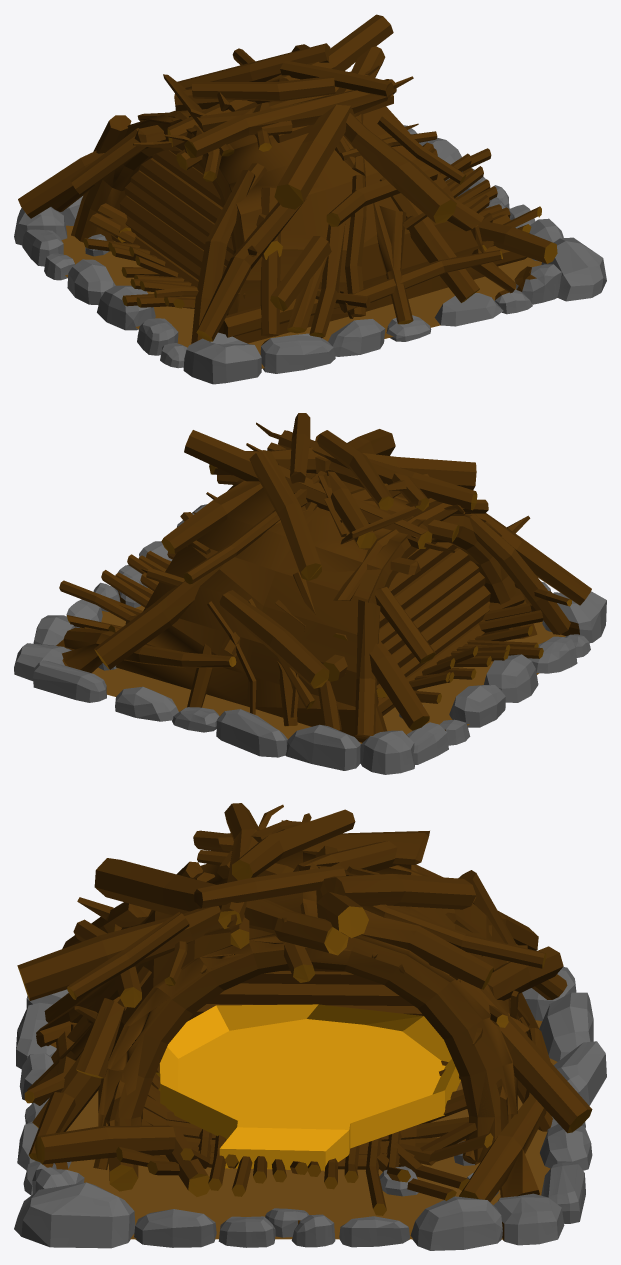
File: beaver habitat 1.fbx
3 renders of one model, top to bottom at view 1: azimuth 30°, elevation 25°; view 2: azimuth 150°, elevation 25°; view 3: azimuth 270°, elevation 25°, orthographic. The views are drawn at different scales.
Parts seen in each view (by area): view 1: beaver habitat; view 2: beaver habitat; view 3: beaver habitat.
Boxes of the visible parts, box(x1,y1,x2,y2) form: beaver habitat: box(14, 14, 606, 384); beaver habitat: box(14, 413, 606, 774); beaver habitat: box(14, 803, 606, 1250).
Size of the model in its own units: 1495 by 712 by 1381.
